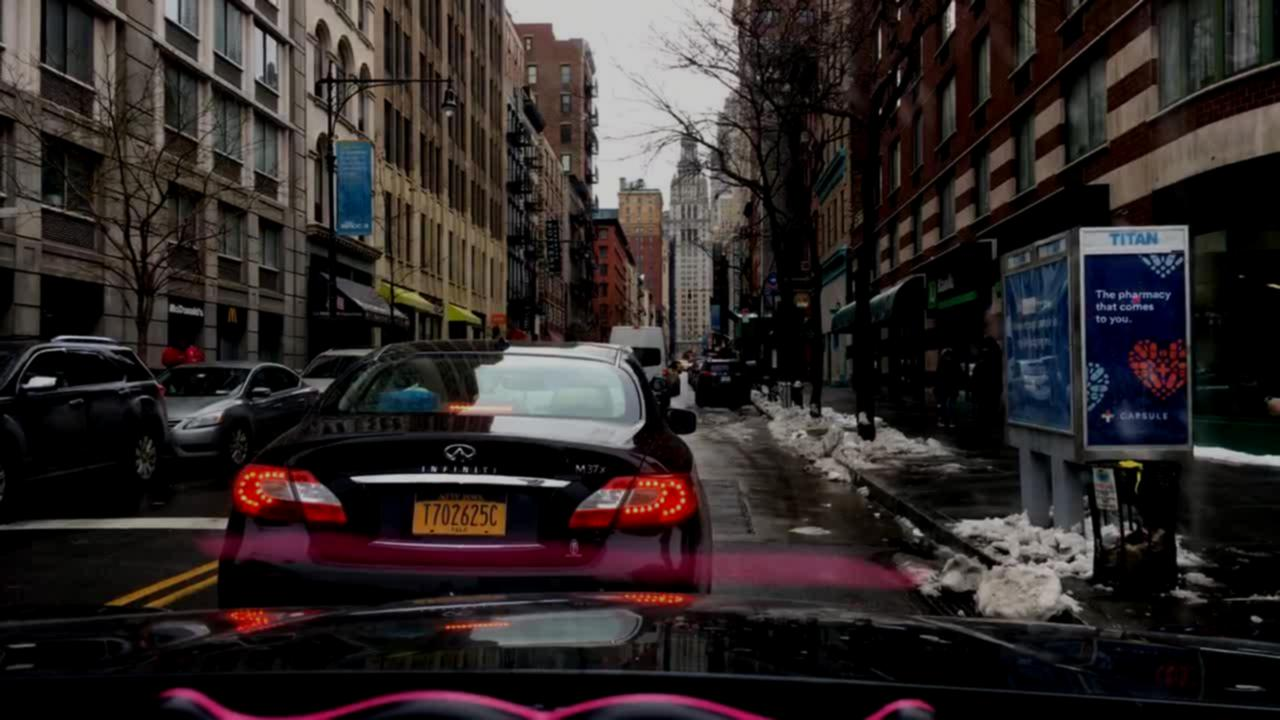Infiniti: (444, 440, 483, 461)
